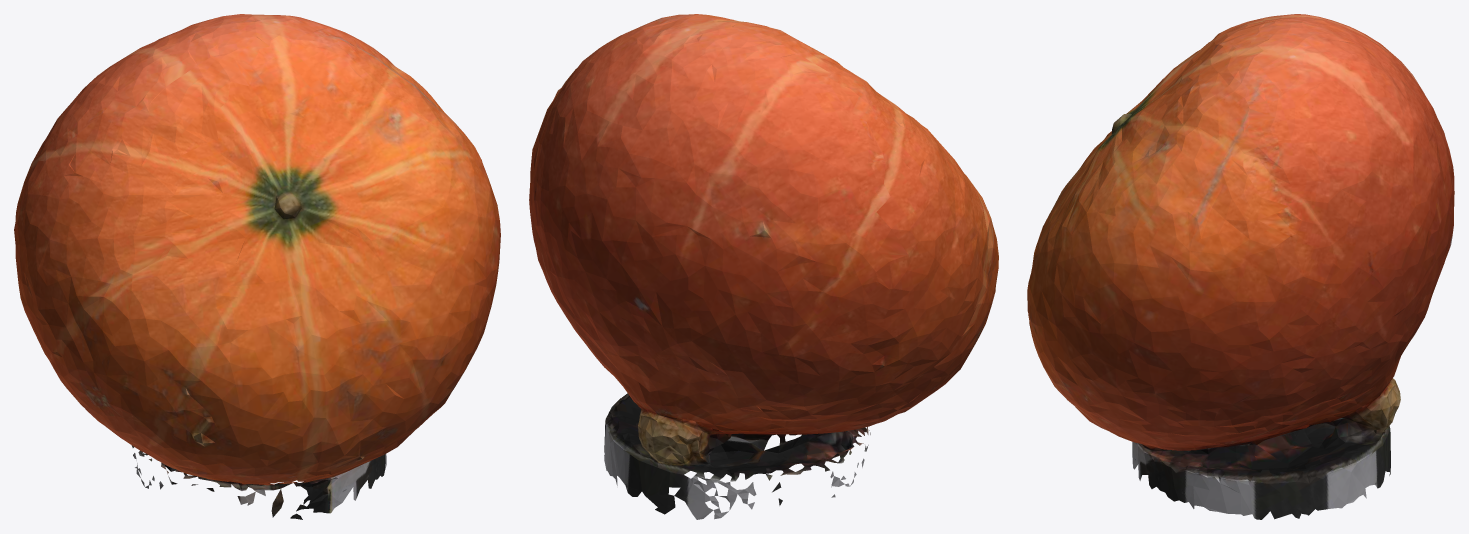
Rendered from kuerbis-obox.glb.
3 views of the same model, side by side, from view 1: azimuth 30°, elevation 25°; view 2: azimuth 150°, elevation 25°; view 3: azimuth 270°, elevation 25° (orthographic). The views are drawn at different scales.
Visible parts, largest first — view 1: texturedMesh; view 2: texturedMesh; view 3: texturedMesh.
Boxes of the visible parts, x1,y1,x2,y2 form: texturedMesh: [14, 14, 500, 519]; texturedMesh: [529, 14, 998, 519]; texturedMesh: [1027, 14, 1454, 519].
Bounding box in the file's own units: 0.6078 × 0.6027 × 0.5386.
Materials: 1 (1 with a texture image).
